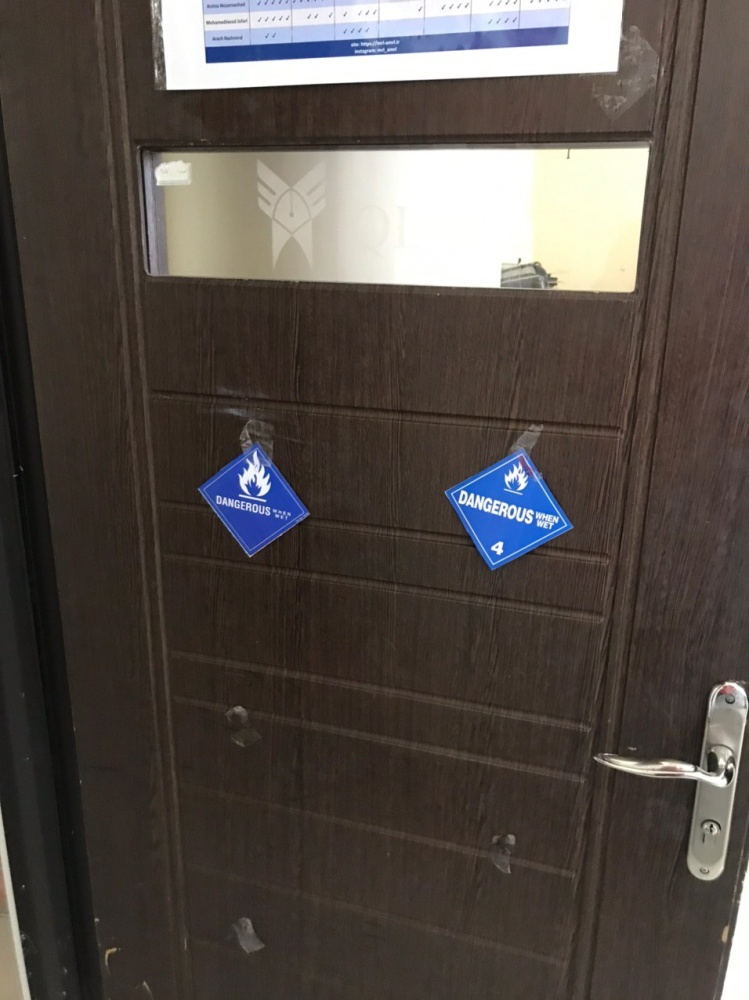Dangerous when wet: (445, 448, 574, 570), (197, 441, 310, 557)
